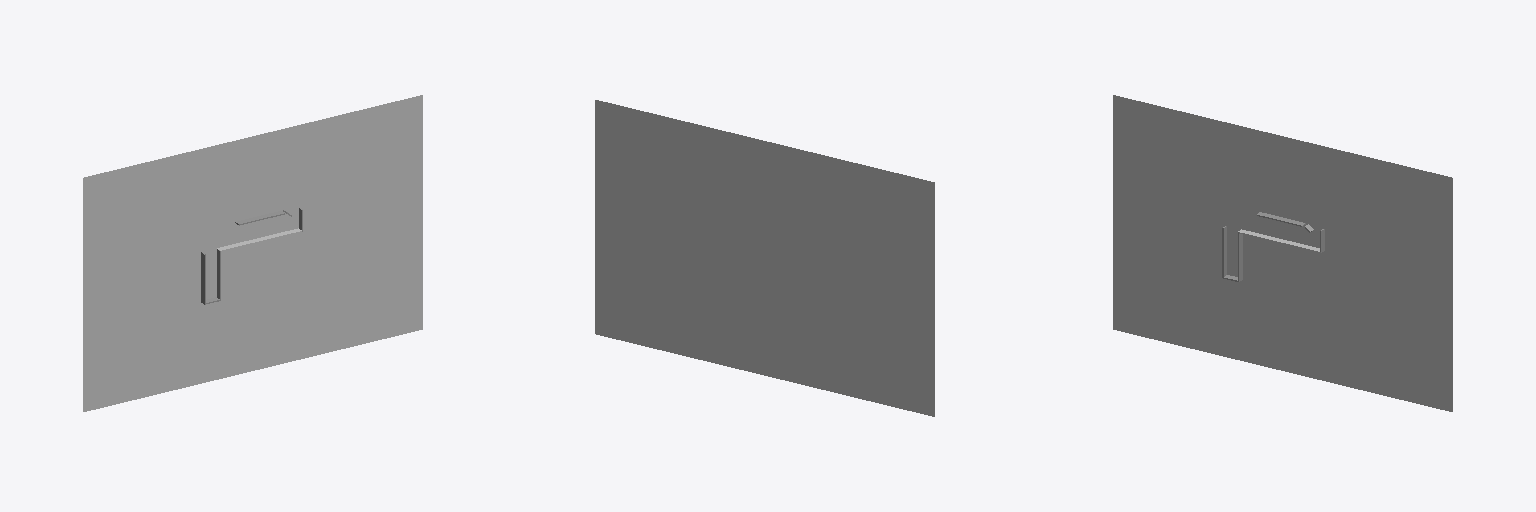
Rendered from Level1Test.obj.
3 views of the same model, side by side, from view 1: azimuth 30°, elevation 25°; view 2: azimuth 150°, elevation 25°; view 3: azimuth 330°, elevation 25° (orthographic).
Parts seen in each view (by area): view 1: Plane; view 2: Plane; view 3: Plane.
Boxes of the visible parts, box(x1,y1,x2,y2) form: Plane: box(83, 95, 422, 411); Plane: box(595, 100, 934, 416); Plane: box(1113, 95, 1452, 411).
Bounding box in the file's own units: 55.19 × 36.37 × 1.76.